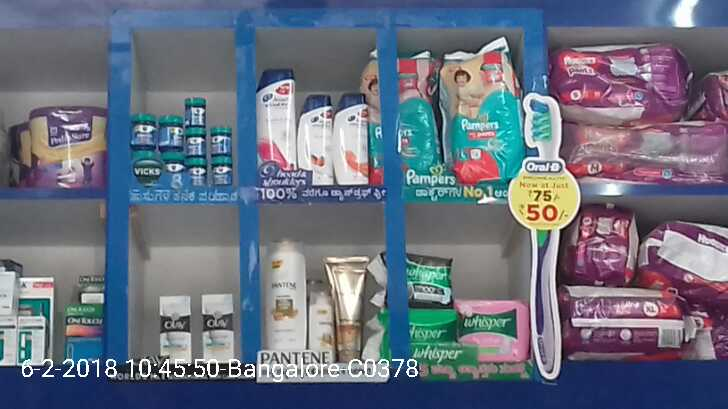vicks: (134, 91, 239, 187)
